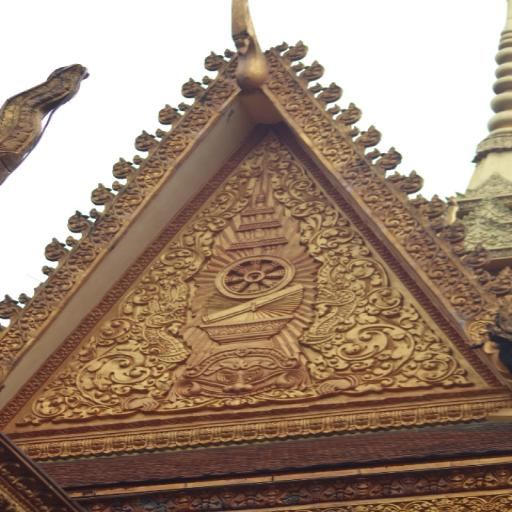la: (76, 350, 172, 397), (122, 246, 202, 302), (332, 324, 411, 377), (310, 228, 379, 288), (207, 170, 255, 215), (272, 162, 314, 206), (32, 385, 82, 419), (288, 204, 351, 230), (408, 351, 457, 383), (89, 314, 139, 343), (182, 218, 230, 248), (365, 288, 408, 321)
lua: (439, 468, 478, 492), (209, 488, 249, 511), (343, 477, 384, 499), (389, 473, 427, 496), (298, 480, 335, 502), (254, 486, 290, 506), (65, 207, 91, 234), (88, 182, 116, 207), (111, 156, 139, 180), (316, 84, 346, 106), (442, 219, 472, 240), (166, 491, 196, 512), (42, 236, 68, 260), (419, 195, 449, 215), (376, 148, 403, 170), (285, 39, 309, 63), (133, 129, 159, 151), (485, 467, 512, 488), (339, 102, 364, 124), (357, 125, 383, 146), (0, 293, 21, 319), (200, 51, 226, 71), (466, 245, 490, 266), (180, 77, 205, 97), (157, 104, 182, 124), (401, 172, 427, 190), (303, 60, 324, 80)
ran: (137, 306, 191, 362), (307, 288, 361, 341)
